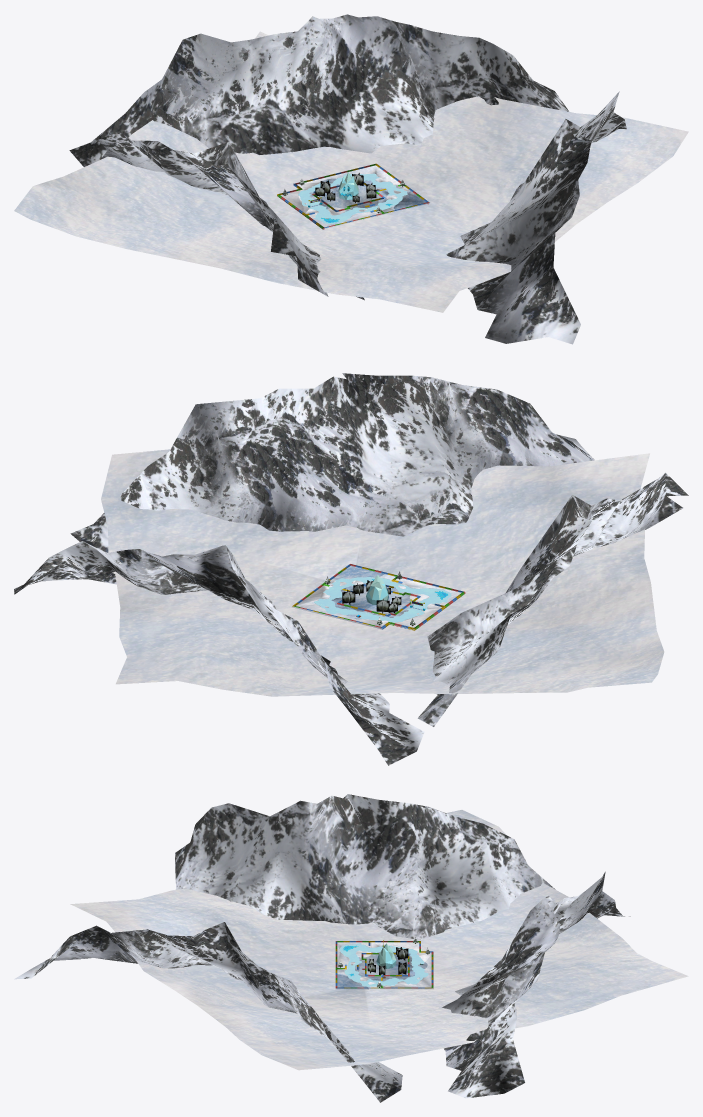
The picture shows the model from 3 angles, top to bottom: view 1: azimuth 30°, elevation 25°; view 2: azimuth 150°, elevation 25°; view 3: azimuth 270°, elevation 25°; orthographic projection. The views are drawn at different scales.
Visible parts, largest first — view 1: mountains.001, snow_background, snow, ice.002, snow_darker, blocks, snow_tree; view 2: snow_background, mountains.001, snow, ice.002, snow_darker, blocks, snow_tree; view 3: mountains.001, snow_background, snow, ice.002, snow_darker, blocks.
Boxes of the visible parts, bbox=[...] form: mountains.001: bbox=[69, 14, 626, 344]; snow_background: bbox=[14, 31, 688, 312]; snow: bbox=[280, 165, 409, 229]; ice.002: bbox=[298, 173, 407, 224]; snow_darker: bbox=[309, 178, 429, 211]; blocks: bbox=[277, 163, 429, 229]; snow_tree: bbox=[315, 173, 376, 202]; snow_background: bbox=[101, 449, 664, 696]; mountains.001: bbox=[14, 373, 688, 765]; snow: bbox=[291, 574, 461, 629]; ice.002: bbox=[314, 577, 451, 622]; snow_darker: bbox=[331, 566, 418, 619]; blocks: bbox=[292, 564, 465, 630]; snow_tree: bbox=[342, 580, 401, 613]; mountains.001: bbox=[14, 794, 630, 1102]; snow_background: bbox=[70, 810, 688, 1070]; snow: bbox=[337, 941, 433, 989]; ice.002: bbox=[339, 943, 428, 986]; snow_darker: bbox=[335, 952, 427, 989]; blocks: bbox=[335, 941, 433, 988].
Size of the model in its own units: 211902 by 45677 by 230682.
Materials: 13 (13 with a texture image).
